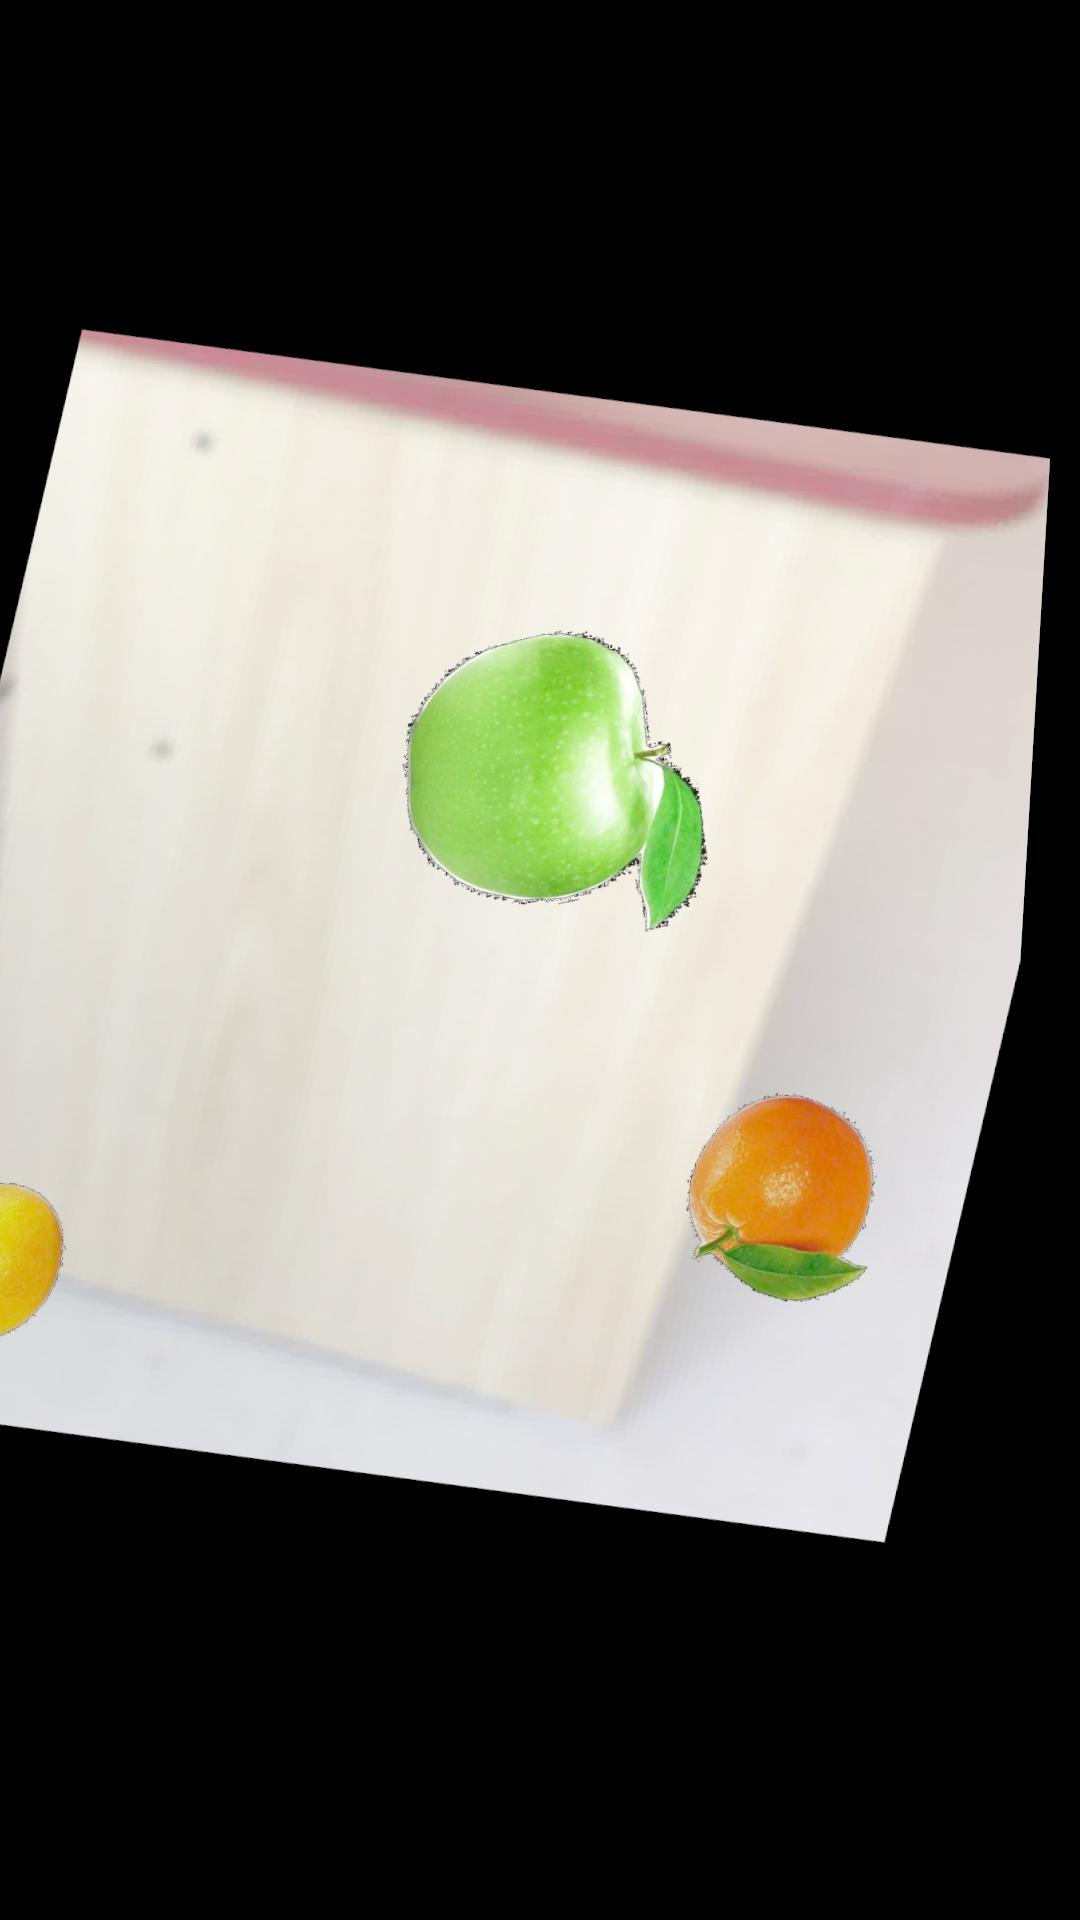green apple: (415, 638, 719, 939)
orange: (703, 1102, 890, 1312), (0, 1184, 79, 1344)
